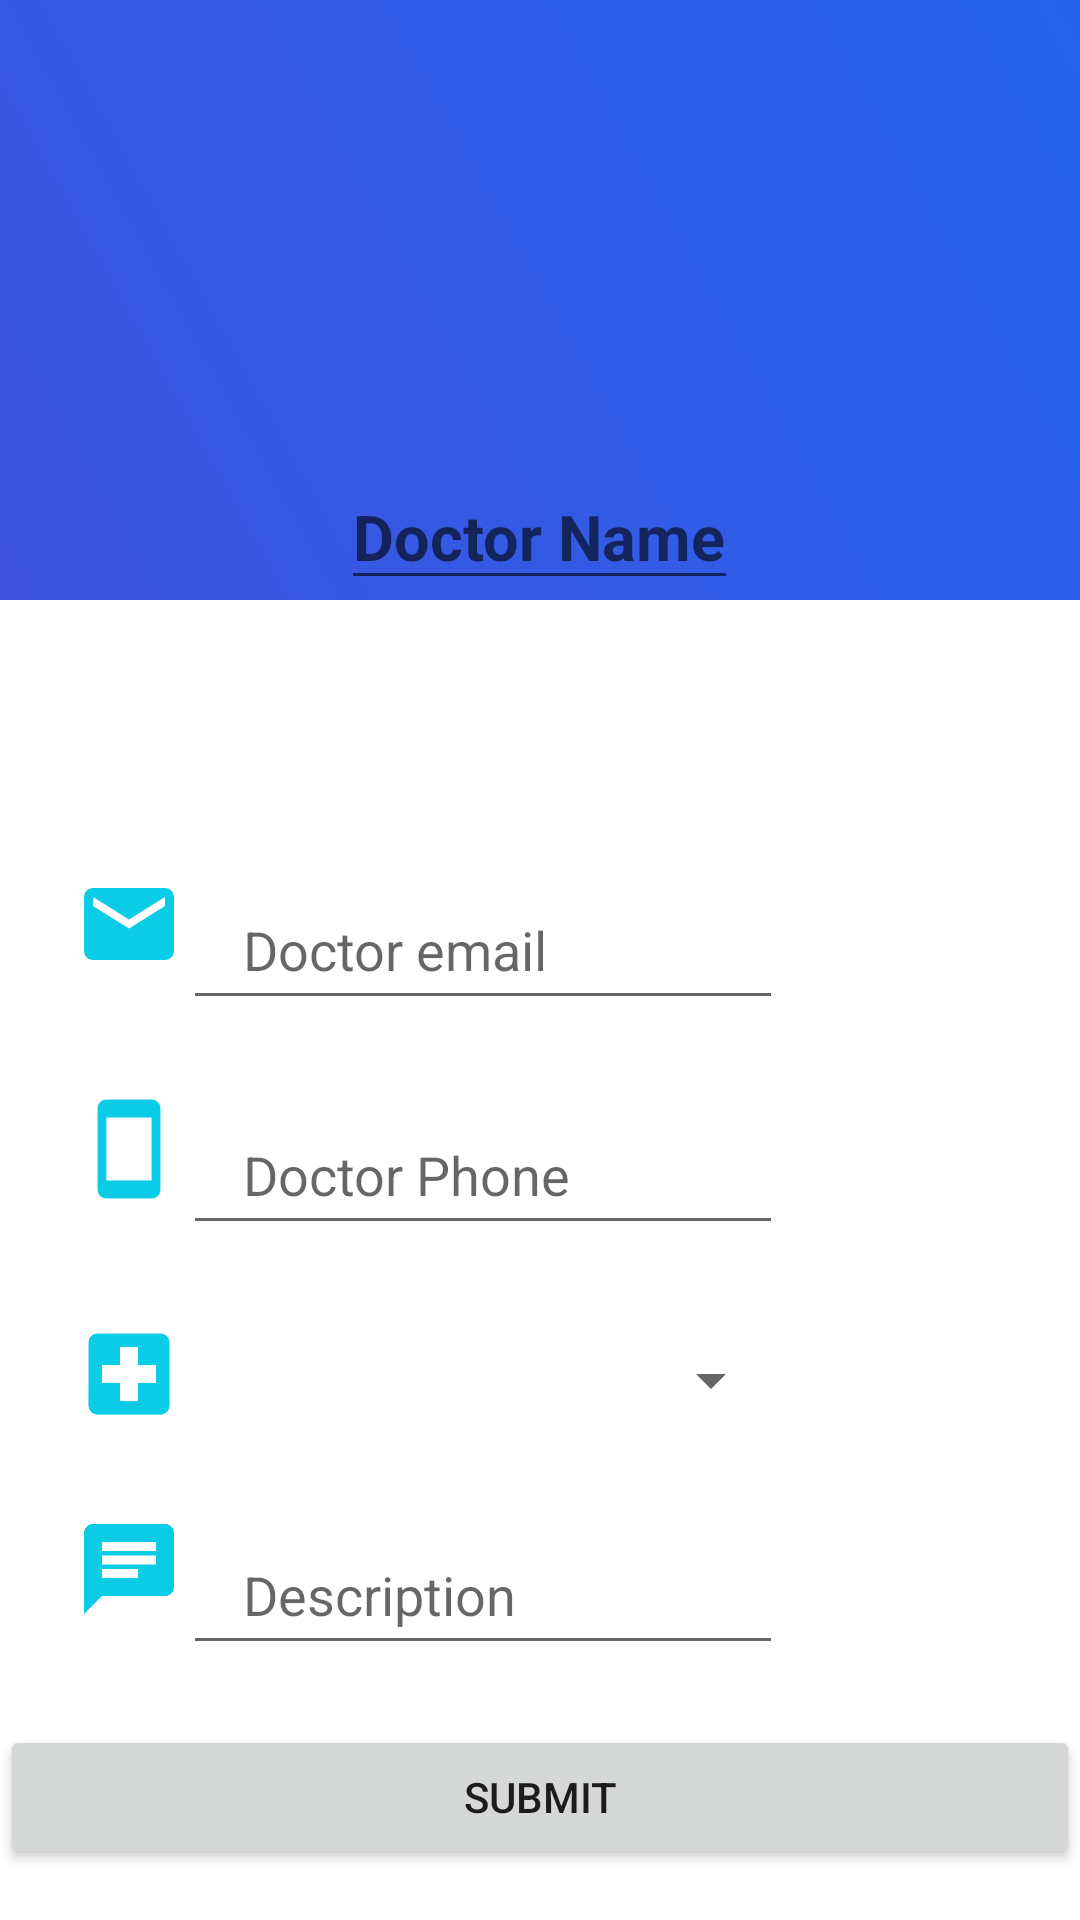

Named icons in this screenshot (1080*1920) and their centers, (x=x, y=y):
chat: (x=129, y=1569)
local hospital: (x=129, y=1374)
smartphone: (x=129, y=1149)
